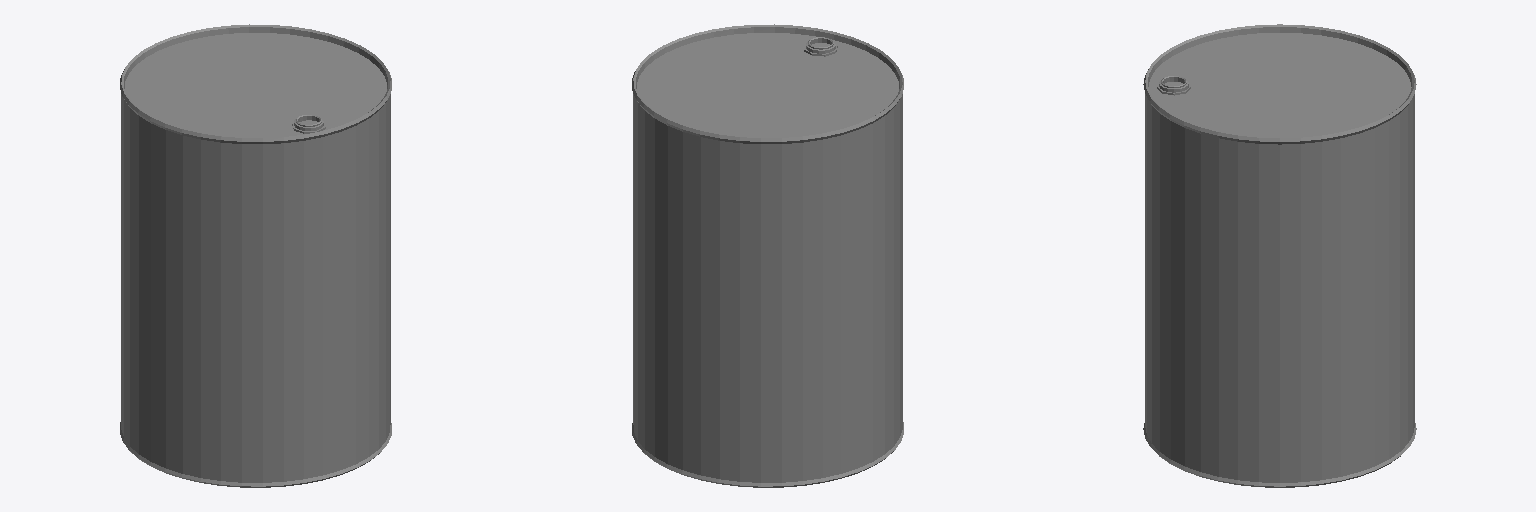
The model's file is Oil_barrel.obj.
3 views of the same model, side by side, from view 1: azimuth 30°, elevation 25°; view 2: azimuth 150°, elevation 25°; view 3: azimuth 270°, elevation 25° (orthographic).
Parts seen in each view (by area): view 1: Oil_barrel; view 2: Oil_barrel; view 3: Oil_barrel.
Boxes of the visible parts, x1=… form: Oil_barrel: x1=120, y1=24, x2=391, y2=487; Oil_barrel: x1=632, y1=24, x2=903, y2=487; Oil_barrel: x1=1143, y1=24, x2=1416, y2=487.
Size of the model in its own units: 70.8 by 100 by 70.8.